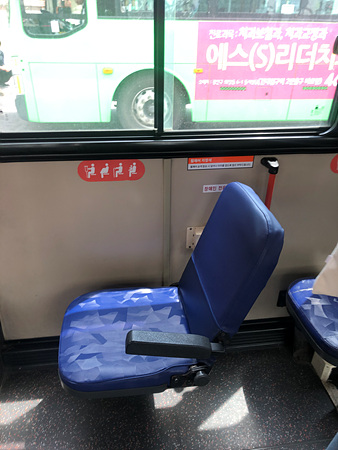seat: (63, 182, 282, 395)
